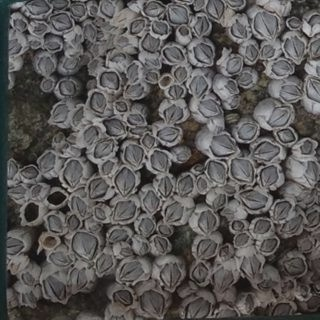Barnacle: (72, 231, 100, 259), (253, 12, 279, 39), (140, 289, 165, 317), (115, 167, 138, 197), (210, 134, 237, 157), (43, 275, 66, 301), (283, 35, 306, 60), (184, 297, 210, 319), (241, 251, 262, 278), (240, 190, 268, 210), (232, 159, 255, 183), (213, 266, 234, 292), (160, 262, 181, 288), (118, 261, 144, 282), (253, 141, 280, 161), (64, 159, 83, 187), (114, 200, 138, 221), (268, 105, 290, 127), (190, 74, 209, 99), (125, 143, 145, 166), (198, 210, 217, 234), (93, 139, 117, 158), (282, 213, 303, 234), (280, 82, 303, 101), (70, 266, 88, 290), (150, 150, 168, 174), (198, 99, 222, 117), (177, 173, 194, 198), (197, 238, 217, 259), (89, 178, 109, 199), (168, 4, 189, 24), (260, 165, 279, 187), (98, 71, 121, 89), (165, 201, 184, 222), (50, 13, 71, 32), (283, 257, 305, 275), (103, 117, 125, 135), (143, 190, 160, 213), (144, 1, 167, 18), (24, 0, 50, 15), (208, 162, 227, 182), (194, 43, 213, 63), (90, 92, 108, 113), (113, 289, 135, 306), (165, 104, 184, 123), (239, 122, 259, 140), (52, 104, 70, 124), (275, 200, 292, 221), (71, 196, 87, 218), (305, 77, 319, 102), (304, 162, 319, 185), (156, 127, 179, 142), (97, 253, 114, 273), (39, 152, 56, 172), (50, 251, 72, 266), (48, 213, 65, 232), (143, 33, 160, 52), (272, 302, 292, 318), (3, 238, 23, 254), (278, 127, 298, 143), (59, 80, 77, 97), (207, 0, 224, 18), (165, 46, 184, 62), (109, 228, 129, 243), (226, 56, 242, 74), (272, 61, 294, 74), (304, 210, 319, 229), (38, 55, 53, 74), (195, 15, 209, 35), (140, 217, 155, 235), (193, 262, 207, 281), (9, 185, 28, 199), (4, 161, 18, 180), (261, 238, 278, 253), (232, 20, 247, 37), (23, 290, 37, 308), (254, 220, 272, 234), (153, 236, 168, 252), (160, 176, 172, 196), (238, 71, 254, 86), (101, 0, 116, 16), (127, 83, 144, 97), (152, 20, 169, 34), (245, 43, 258, 61), (244, 294, 256, 313), (103, 159, 115, 178), (85, 126, 99, 142), (73, 107, 85, 125), (300, 139, 314, 154), (262, 43, 276, 58), (6, 39, 20, 54), (131, 19, 145, 34), (281, 279, 294, 295), (143, 134, 156, 150), (21, 166, 38, 178), (128, 112, 145, 124), (84, 24, 96, 41), (309, 38, 319, 58), (235, 233, 250, 246), (170, 84, 183, 99), (158, 223, 174, 235), (50, 0, 69, 10), (20, 271, 34, 284), (213, 194, 226, 208), (68, 216, 80, 231), (175, 66, 187, 81), (71, 4, 86, 16), (259, 280, 275, 291), (128, 62, 139, 78), (64, 58, 78, 70), (197, 177, 208, 192), (307, 295, 319, 308), (14, 18, 27, 30), (115, 102, 129, 113), (222, 183, 237, 193), (33, 22, 48, 32), (310, 256, 319, 272), (301, 239, 313, 251), (302, 192, 314, 204), (226, 80, 238, 92), (113, 52, 125, 64), (32, 184, 42, 198), (146, 58, 160, 68), (147, 72, 159, 83), (95, 207, 105, 220), (177, 151, 190, 161), (72, 33, 82, 46), (288, 18, 301, 28), (309, 14, 319, 27), (47, 41, 61, 50), (132, 127, 149, 134), (120, 246, 133, 255), (232, 220, 245, 229), (10, 263, 20, 274), (42, 79, 53, 89), (220, 245, 229, 257), (231, 96, 240, 108), (140, 241, 148, 254), (227, 0, 244, 6), (80, 55, 90, 65), (89, 61, 98, 72), (299, 285, 308, 295), (54, 134, 63, 144), (68, 134, 76, 145), (194, 0, 205, 8), (105, 22, 115, 30), (196, 164, 205, 172), (180, 27, 189, 35), (8, 61, 15, 71), (315, 278, 319, 292)
